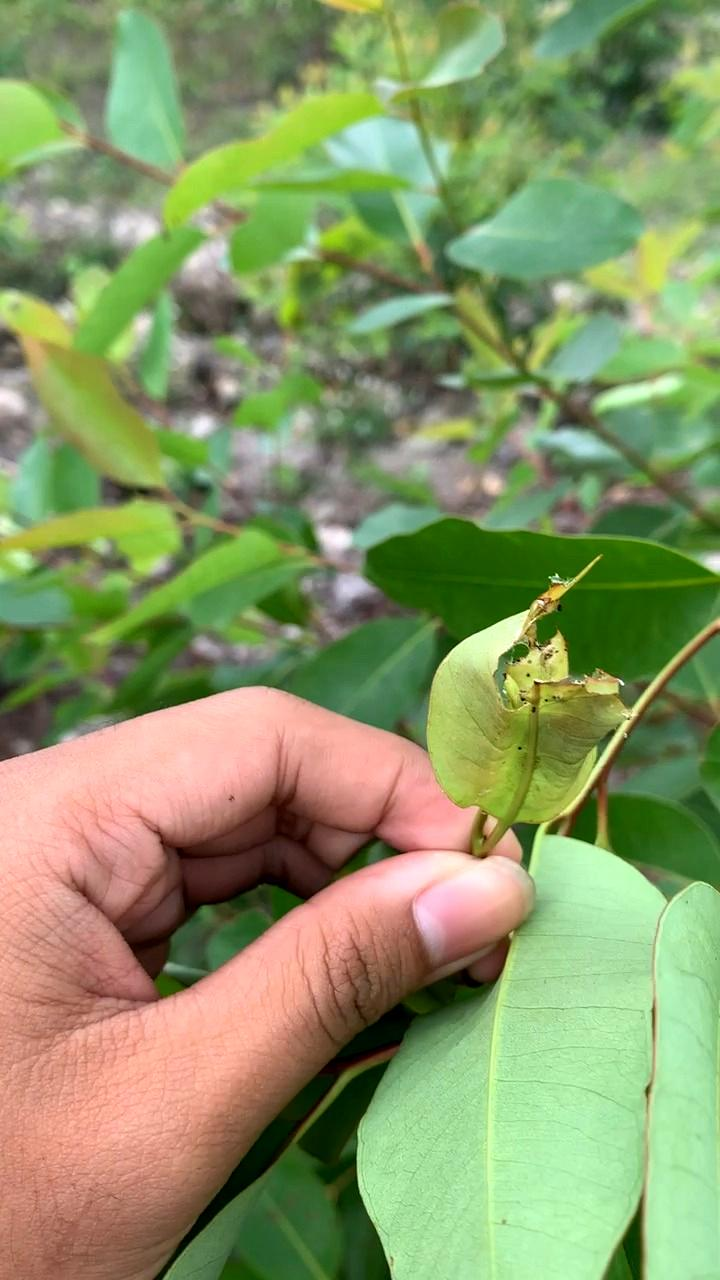Leaf Roller - Leaf: (416, 578, 631, 825)
